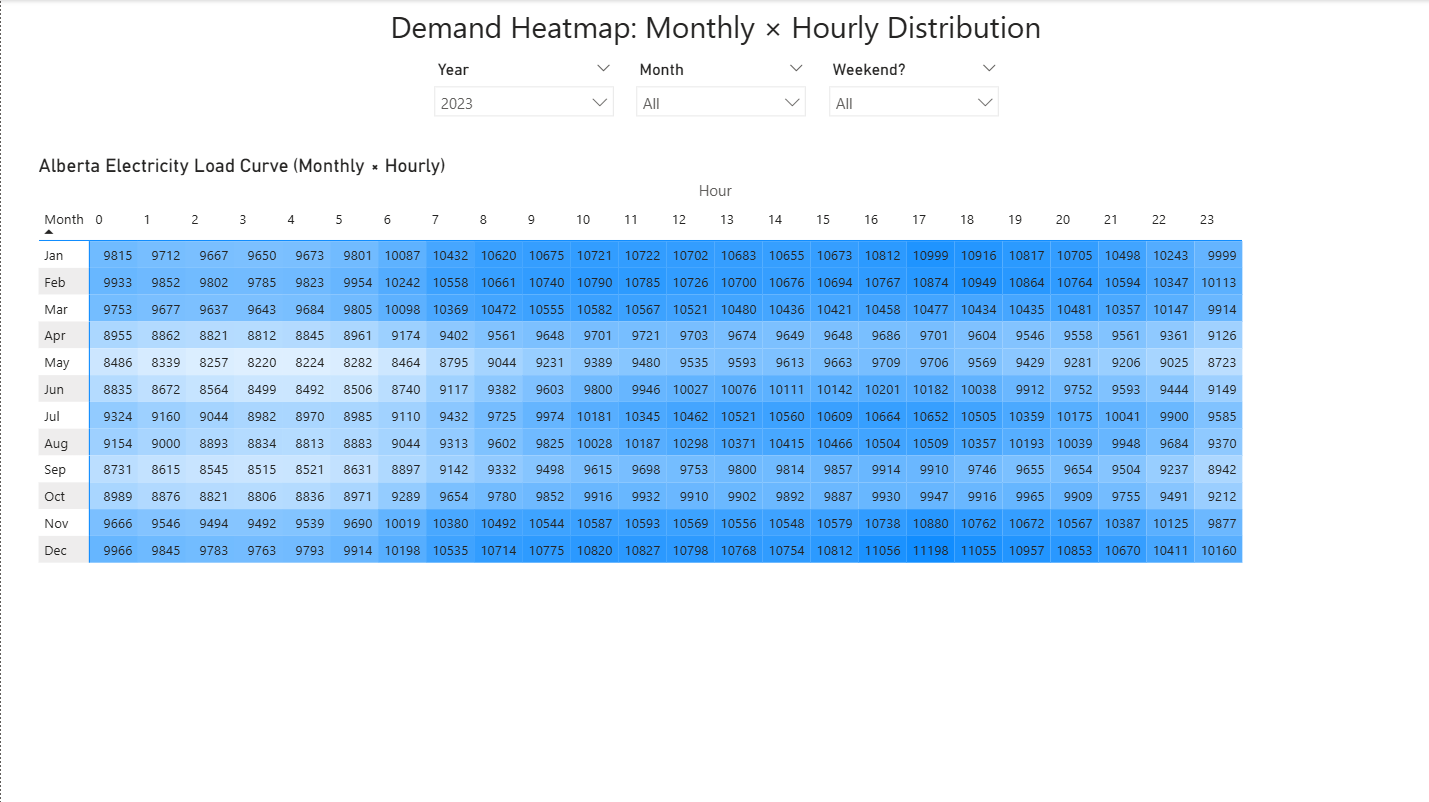

The page's visual inventory and layout, read from the dashboard file:
{"tool":"powerbi","page":{"name":"Matrix","canvas":[1280,720],"ordinal":1},"visuals":[{"type":"pivotTable","title":"Alberta Electricity Load Curve (Monthly × Hourly)","fields":{"Rows":["analytics dim_date_hour.month_name"],"Columns":["analytics dim_date_hour.hour"],"Values":["analytics dim_date_hour.Avg Demand (MW)"]},"box":[28.9,137.5,1221.7,466.7],"z":0},{"type":"textbox","box":[268.9,0,742.9,49.4],"z":1000},{"type":"slicer","fields":{"Values":["analytics dim_date_hour.year"]},"box":[377.5,49.4,180.9,77.2],"z":2000,"group":"g1"},{"type":"slicer","fields":{"Values":["analytics dim_date_hour.month_name"]},"box":[558.4,49.4,172.5,77.2],"z":3000,"group":"g1"},{"type":"slicer","fields":{"Values":["analytics dim_date_hour.is_weekend"]},"box":[730.9,49.4,172.5,77.2],"z":4000,"group":"g1"},{"type":"group","id":"g1","title":"Group 1","box":[377.5,49.4,525.8,77.2],"z":4001}]}

Visuals, with their boxes in screenshot pixels (x1, y1, x2, y2), scaled from the page's 1280x720 canvas onto the 1429x802 screenshot:
"Alberta Electricity Load Curve (Monthly × Hourly)" pivotTable: (x1=32, y1=153, x2=1396, y2=673)
textbox: (x1=300, y1=0, x2=1130, y2=55)
slicer - analytics dim_date_hour.year: (x1=421, y1=55, x2=623, y2=141)
slicer - analytics dim_date_hour.month_name: (x1=623, y1=55, x2=816, y2=141)
slicer - analytics dim_date_hour.is_weekend: (x1=816, y1=55, x2=1009, y2=141)
"Group 1" group: (x1=421, y1=55, x2=1008, y2=141)
